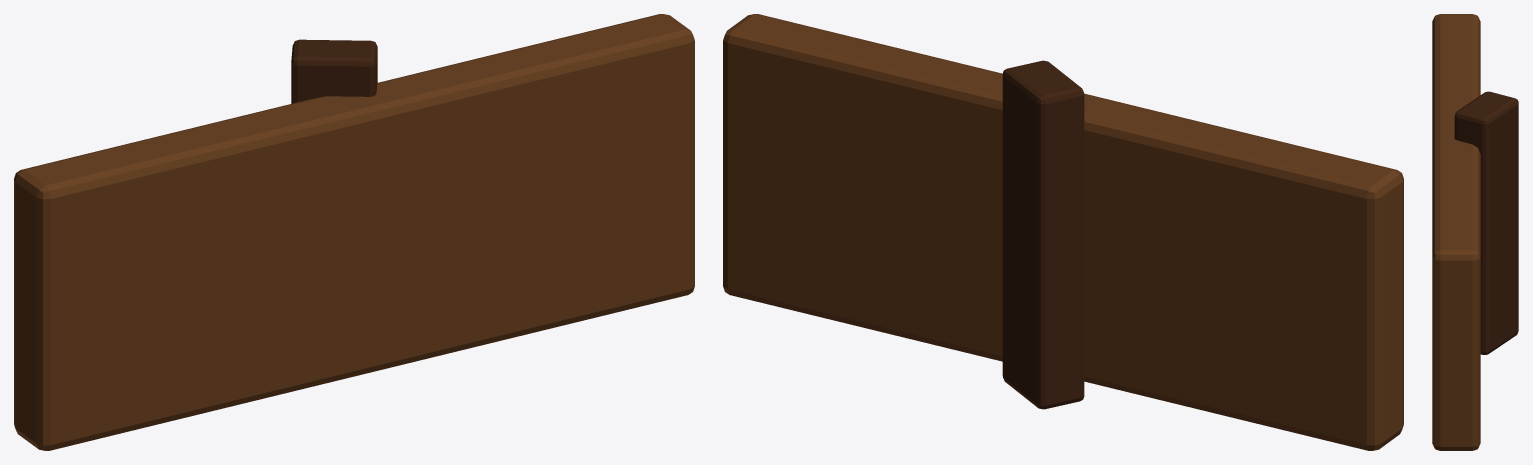
Rendered from wood_barricade_breakable_LOD1.glb.
3 renders of one model, left to right at view 1: azimuth 30°, elevation 25°; view 2: azimuth 150°, elevation 25°; view 3: azimuth 270°, elevation 25°, orthographic. The views are drawn at different scales.
Parts seen in each view (by area): view 1: LOD1_Barricade, LOD1_Brace; view 2: LOD1_Barricade, LOD1_Brace; view 3: LOD1_Barricade, LOD1_Brace.
Part boxes in pixels (x1,y1,x2,y2): LOD1_Barricade: (14, 14, 694, 450); LOD1_Brace: (291, 39, 377, 103); LOD1_Barricade: (723, 14, 1403, 450); LOD1_Brace: (1002, 60, 1084, 409); LOD1_Barricade: (1432, 14, 1480, 450); LOD1_Brace: (1454, 91, 1518, 354).
Size of the model in its own units: 2.85 by 1.3 by 0.4295.
